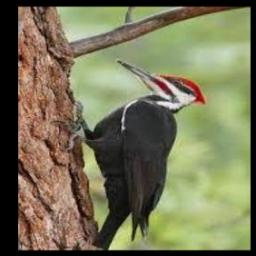Woodpecker: (57, 59, 206, 249)
